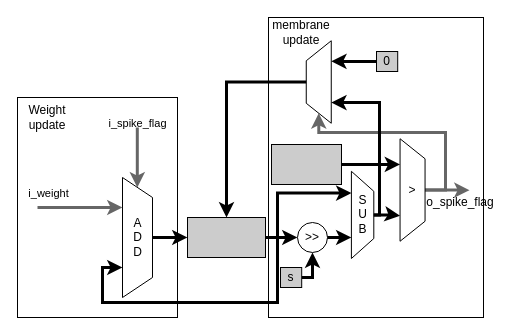
Image size: 511x335. Some labels were removed from this diagram. The shapes that lost their labels are listed below. From the top down, each one's centre as x and y in pixels, then its label:
the point at 318,81: M U X
the point at 306,164: V_threshold
the point at 226,237: V_mem
